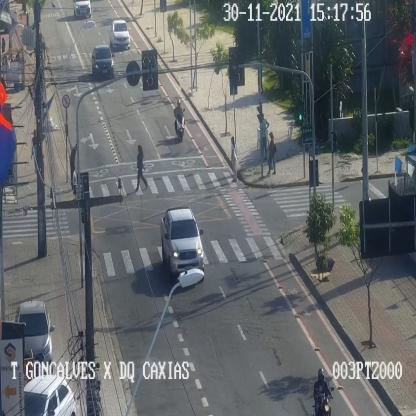car: (160, 207, 204, 279), (16, 301, 52, 373), (23, 374, 76, 416), (92, 44, 114, 77), (109, 20, 130, 48), (74, 3, 91, 18)
motorbike: (313, 368, 334, 415), (174, 98, 184, 141)
person: (135, 145, 147, 190), (267, 132, 276, 174), (260, 113, 268, 160), (70, 144, 78, 190), (230, 136, 237, 181), (31, 129, 37, 173)
